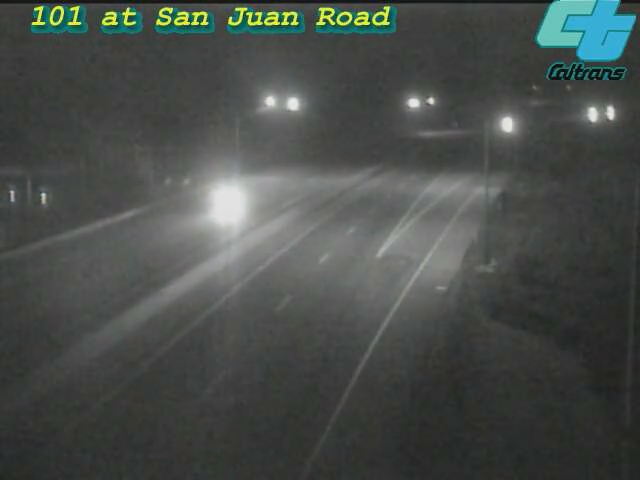vehicle: (186, 163, 266, 243), (482, 100, 532, 150), (565, 92, 615, 142), (584, 88, 634, 138)
